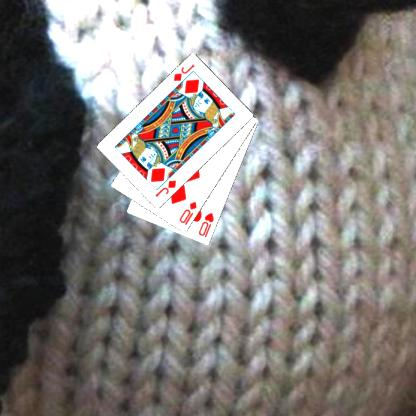10D: (176, 199, 198, 227)
10H: (196, 209, 215, 238)
JD: (171, 61, 196, 83), (152, 178, 178, 198)
